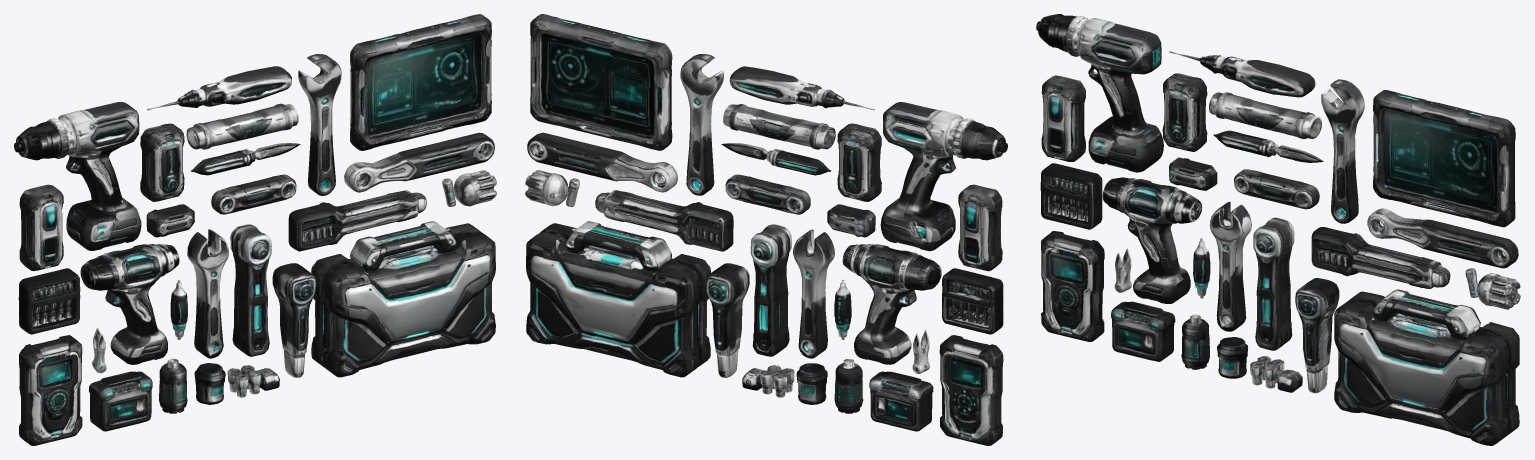
The picture shows the model from 3 angles, left to right: view 1: azimuth 30°, elevation 25°; view 2: azimuth 150°, elevation 25°; view 3: azimuth 330°, elevation 25°; orthographic projection.
Bounding box in the file's own units: 1.9 × 1.22 × 0.2333.
1 material, 1 textured.
